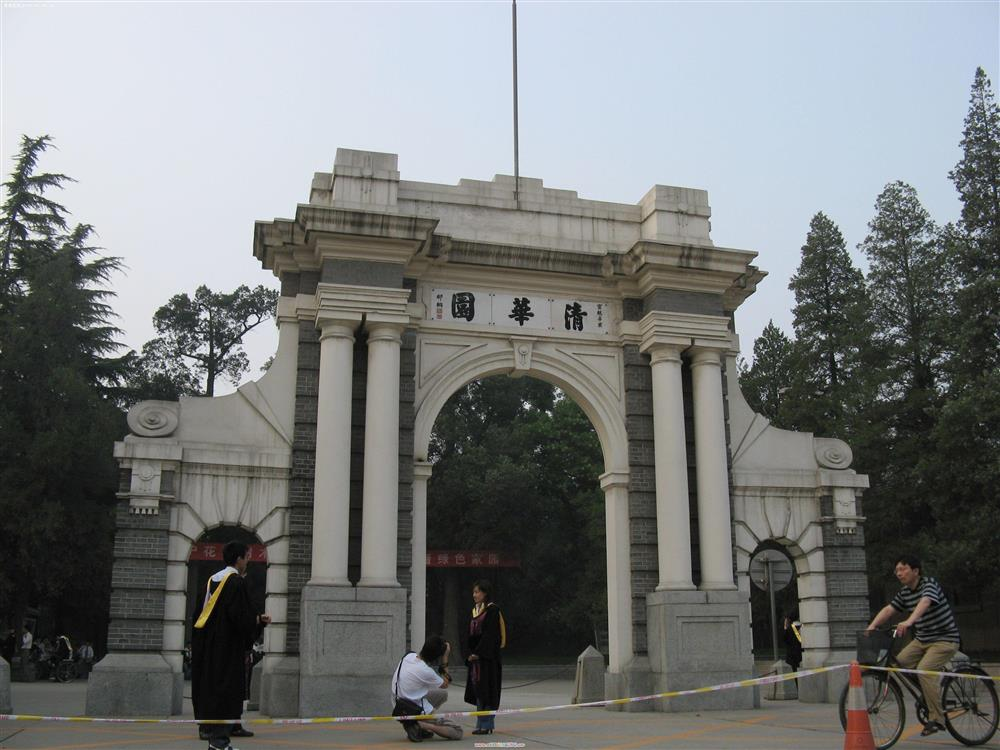Tsinghua_old_gate: (94, 143, 877, 712)
